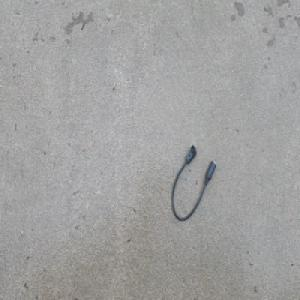Wire: (170, 144, 217, 223)
